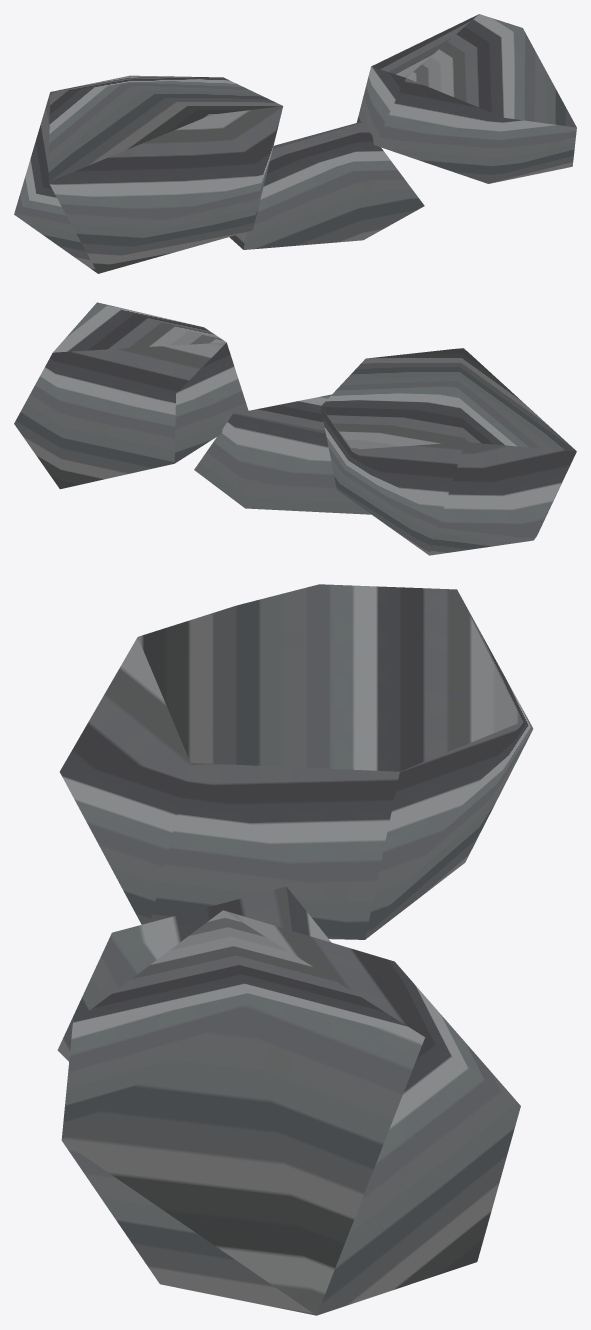
Rendered from rock_jclump2_hdtex.glb.
3 renders of one model, top to bottom at view 1: azimuth 30°, elevation 25°; view 2: azimuth 150°, elevation 25°; view 3: azimuth 270°, elevation 25°, orthographic. The views are drawn at different scales.
Visible parts, largest first — view 1: Rock_JClump2; view 2: Rock_JClump2; view 3: Rock_JClump2.
Part boxes in pixels (x1,y1,x2,y2): Rock_JClump2: (14,14,576,273); Rock_JClump2: (14,302,576,555); Rock_JClump2: (57,584,533,1315).
Size of the model in its own units: 21.4 by 6.19 by 8.12.
Materials: 1 (1 with a texture image).
